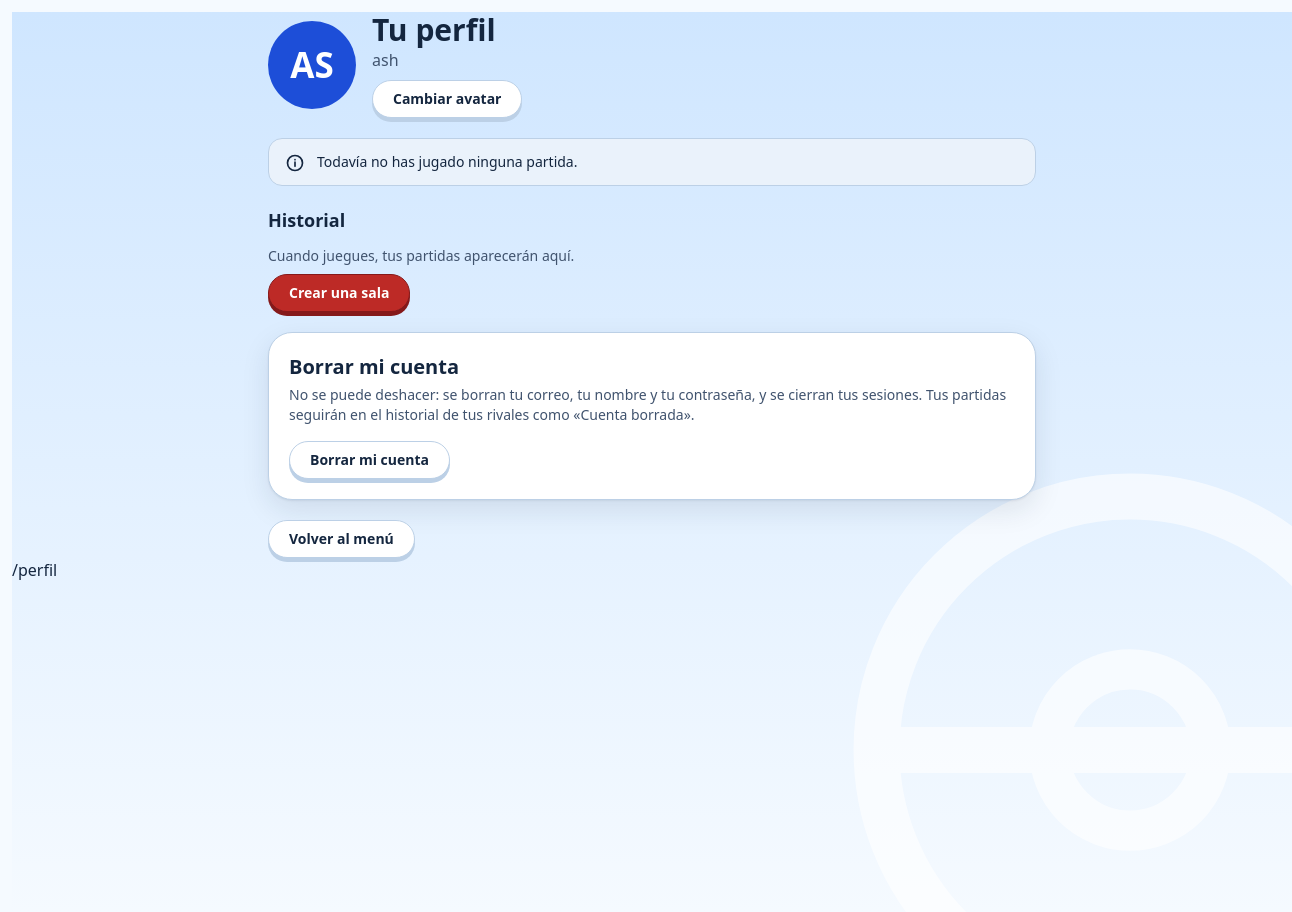
Test: Borrar mi cuenta › si la contraseña no es la suya lo dice y la sesión sigue
The width and height of the screenshot is (1292, 912).
Click the button "Borrar mi cuenta".
click(370, 460)  # box [289,441,450,479]
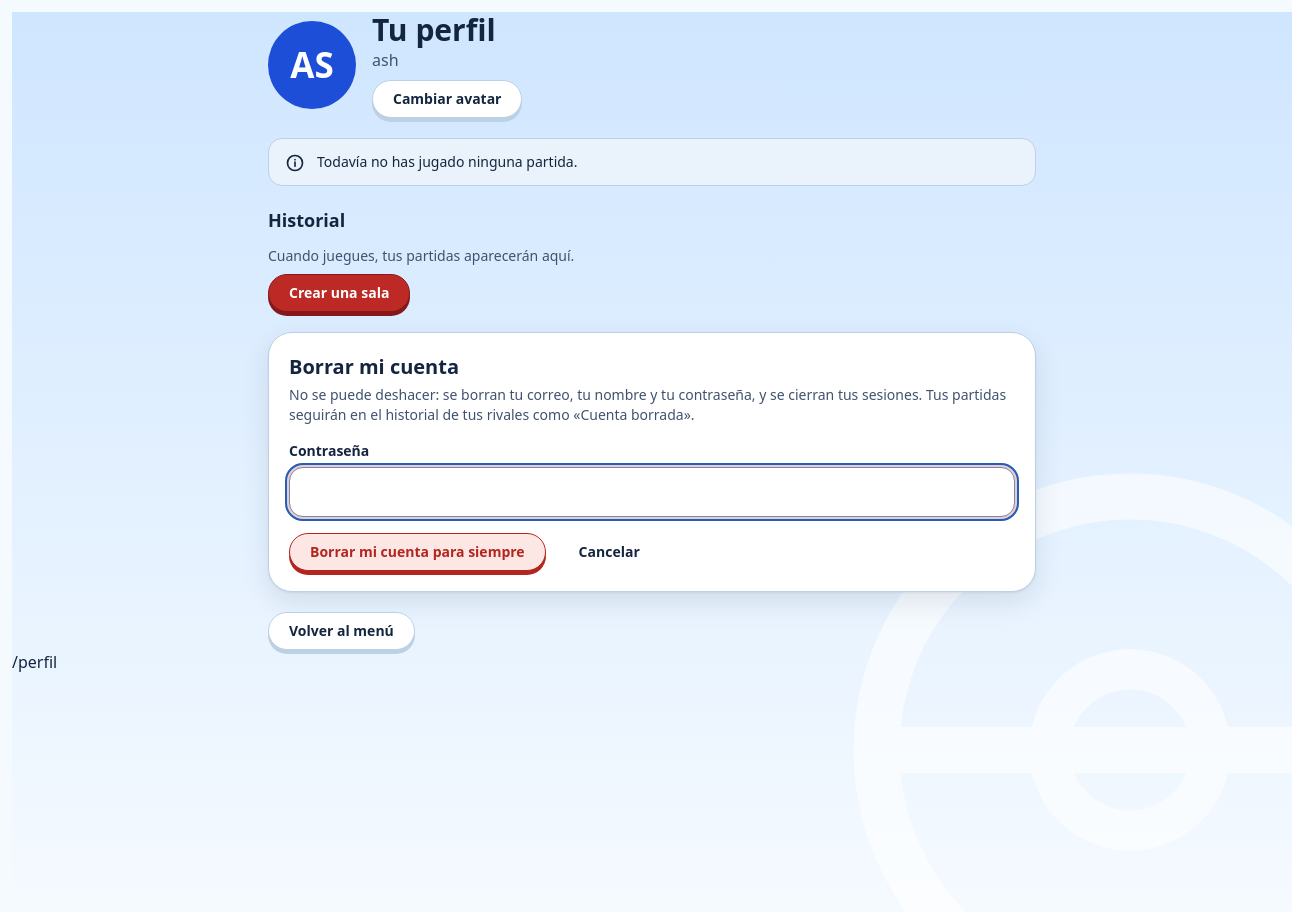
Type "otra" into the password field labelled "Contraseña".
click(652, 492); type("otra")  # box [289,467,1015,517]
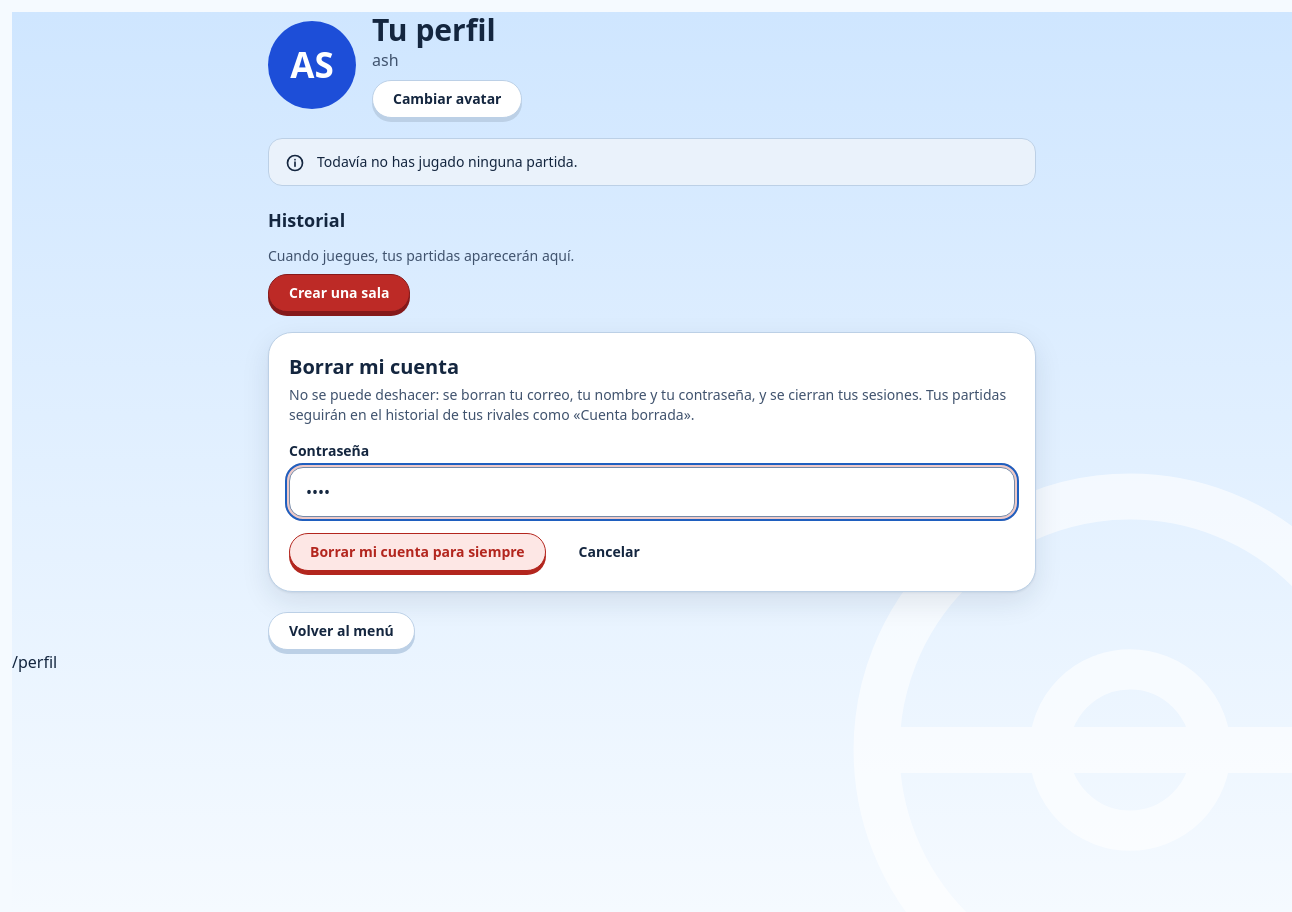
Click the button "Borrar mi cuenta para siempre".
click(417, 552)  # box [289,533,546,571]
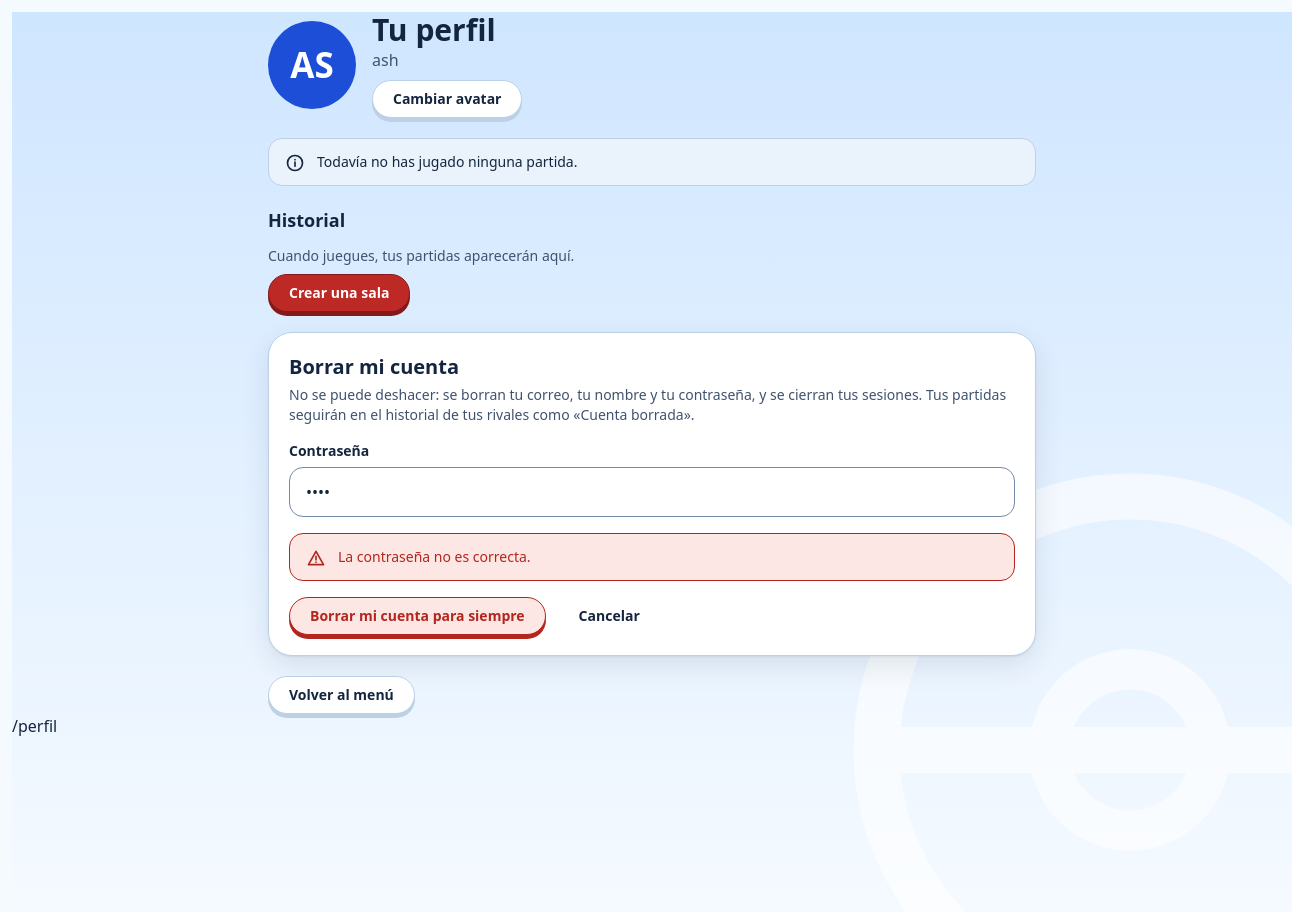
Expected: the text with test id "location" reads "/perfil", [12,715,57,737]
Result: the text "La contraseña no es correcta." is shown at [338,547,531,566]
